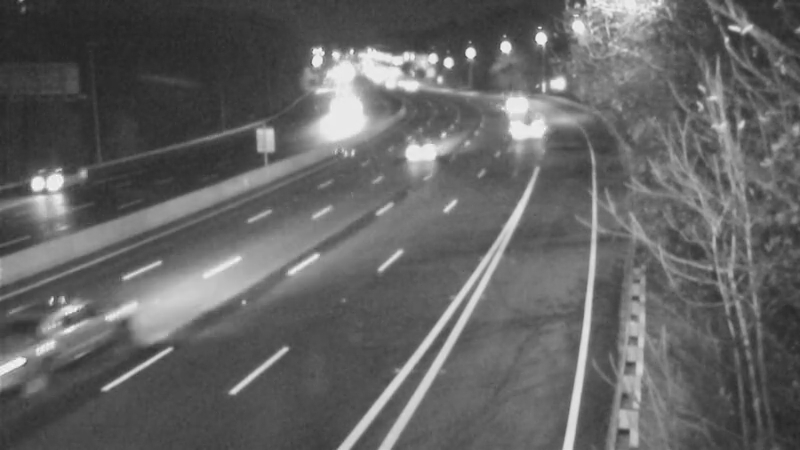vehicle: (1, 302, 88, 412), (383, 116, 463, 196), (9, 144, 89, 224), (472, 71, 522, 121), (506, 102, 556, 152)
